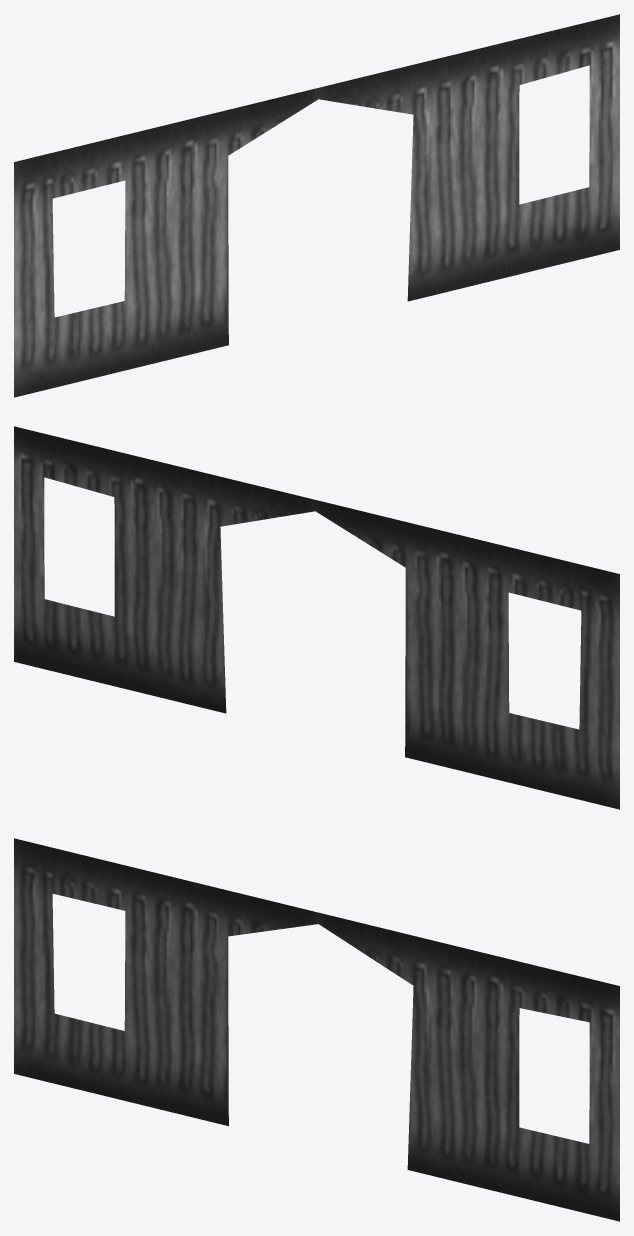
Rendered from W_AI1_fOf [Wellblech]_824.glb.
3 views of the same model, one above another, from view 1: azimuth 30°, elevation 25°; view 2: azimuth 150°, elevation 25°; view 3: azimuth 330°, elevation 25° (orthographic).
Parts seen in each view (by area): view 1: polySurfaceShape908; view 2: polySurfaceShape908; view 3: polySurfaceShape908.
Boxes of the visible parts, x1=… form: polySurfaceShape908: x1=14, y1=14, x2=619, y2=397; polySurfaceShape908: x1=14, y1=426, x2=619, y2=809; polySurfaceShape908: x1=14, y1=838, x2=619, y2=1221.
Size of the model in its own units: 0.9385 by 0.3486 by 1.52e-08.
Materials: 1 (1 with a texture image).
